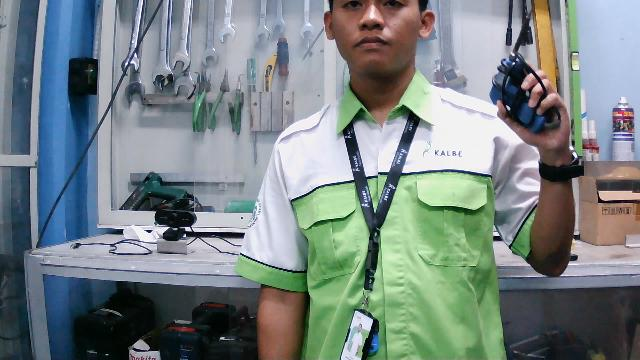solder_electrical: (488, 5, 563, 135)
